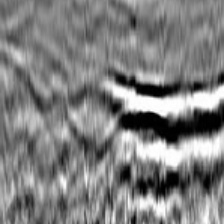cavities: (103, 65, 224, 224)
